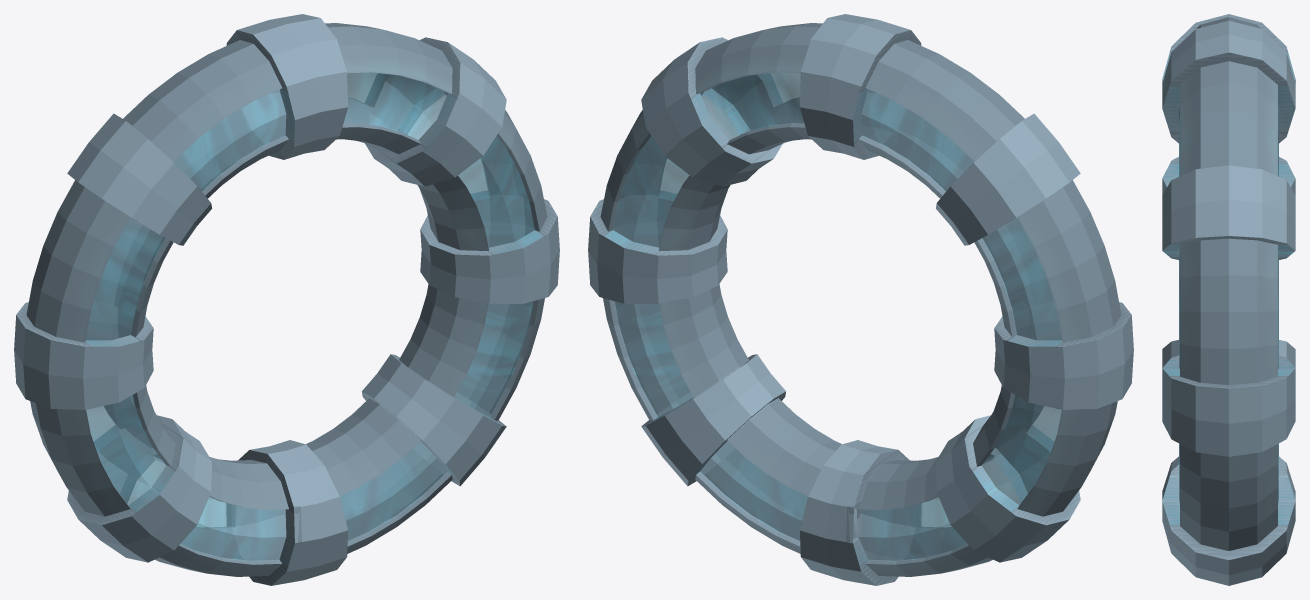
File: ring.fbx
3 renders of one model, left to right at view 1: azimuth 30°, elevation 25°; view 2: azimuth 150°, elevation 25°; view 3: azimuth 270°, elevation 25°, orthographic. The views are drawn at different scales.
Visible parts, largest first — view 1: Torus; view 2: Torus; view 3: Torus.
Part boxes in pixels (<box>): Torus: <box>14,14,559,585</box>; Torus: <box>588,14,1133,585</box>; Torus: <box>1162,14,1295,585</box>.
Bounding box in the file's own units: 669 × 669 × 152.
2 materials, 2 textured.
